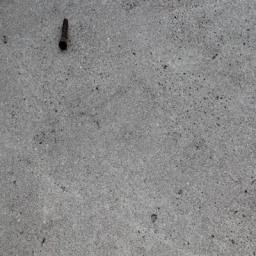FOD: (58, 15, 74, 53)
